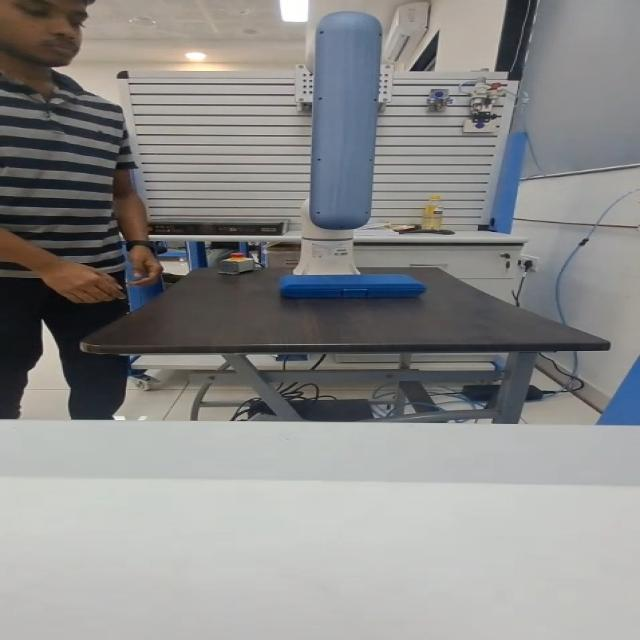top-surface: (291, 276, 410, 283)
